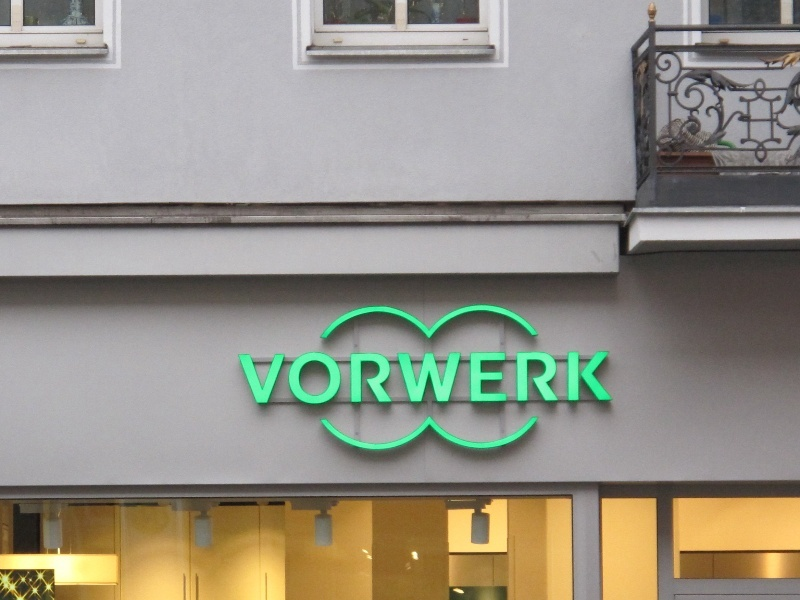text: (241, 351, 256, 406), (257, 351, 272, 406), (273, 351, 288, 406), (289, 351, 304, 406), (305, 351, 320, 406), (321, 351, 336, 406), (337, 351, 352, 406), (353, 351, 368, 406), (369, 351, 384, 406), (385, 351, 400, 406), (401, 351, 416, 406), (417, 351, 432, 406), (433, 351, 448, 406), (449, 351, 464, 406), (465, 351, 480, 406), (481, 351, 496, 406), (497, 351, 512, 406), (513, 351, 528, 406), (529, 351, 544, 406), (545, 351, 560, 406), (561, 351, 576, 406), (577, 351, 592, 406), (593, 351, 608, 406), (237, 351, 240, 406), (609, 351, 612, 406)
